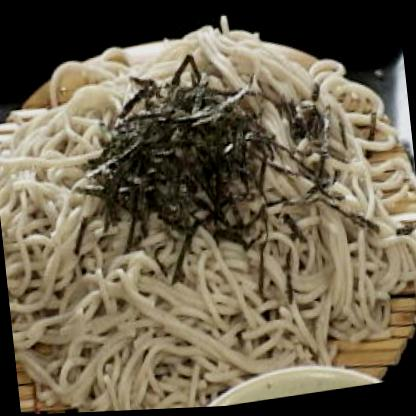memil soba: (0, 4, 415, 415)
